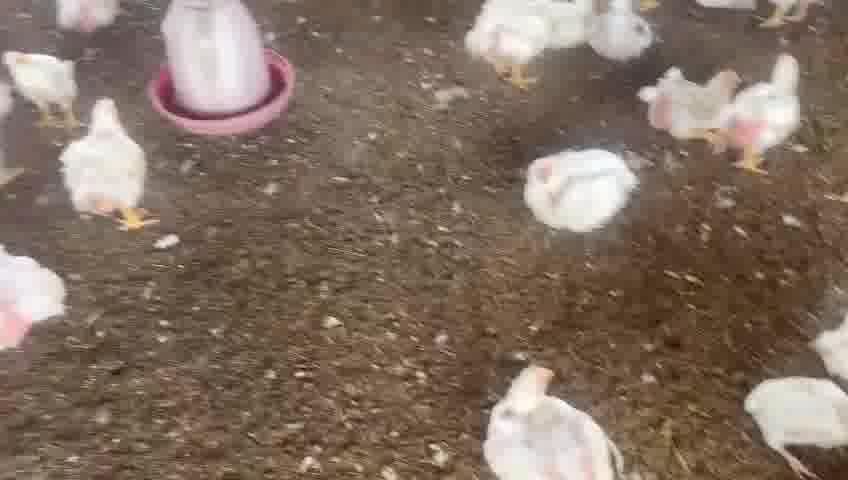AbNormal: (736, 360, 848, 480)
Normal: (469, 355, 636, 480), (64, 92, 166, 232), (522, 140, 645, 240), (0, 221, 79, 355), (720, 53, 810, 169), (640, 40, 741, 141), (466, 0, 566, 99)
